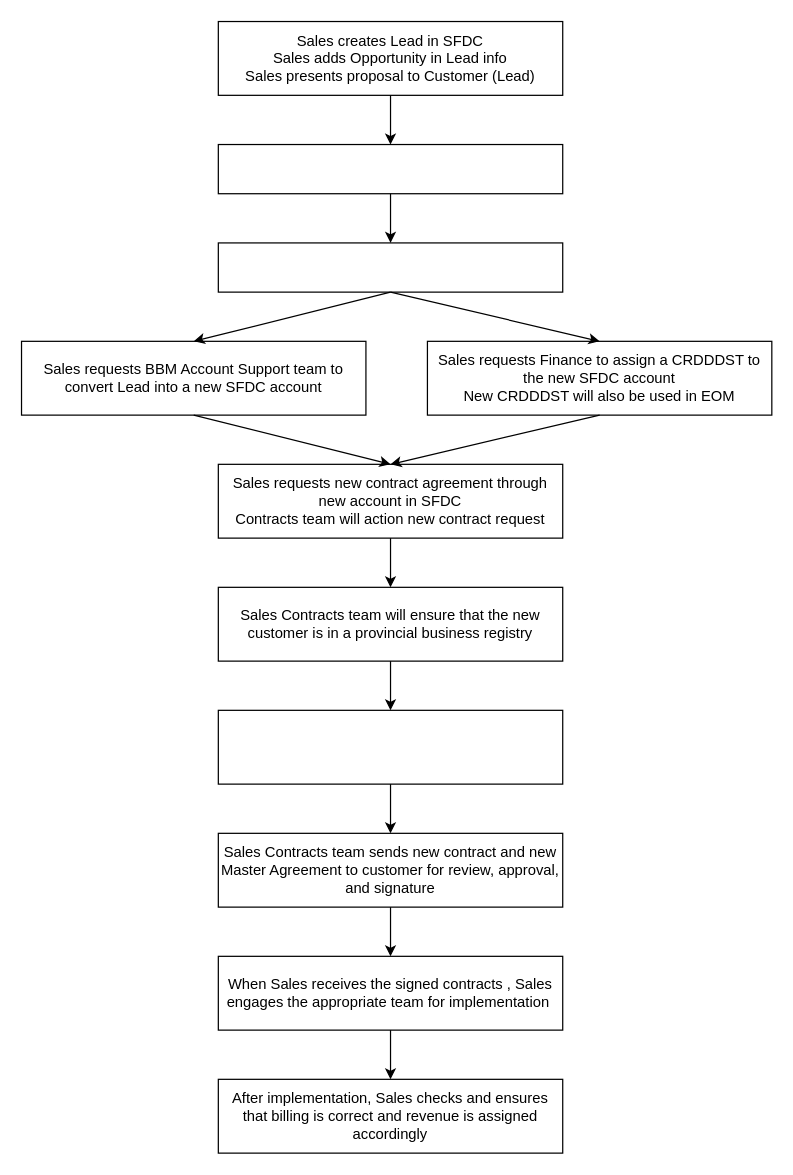
The diagram is 793 pixels wide and 1175 high, and some of its shapes have lost their labels. Here are the shapes that lost their labels. From the top down, the centre of each, then its label:
At pixel 390 168: "Customer (Lead) accepts Sales proposal".
At pixel 390 267: "Sales marks opportunity as Closed-SOLD in SFDC".
At pixel 390 746: "Sales Contracts team also creates new Master Agreement for new customer".
